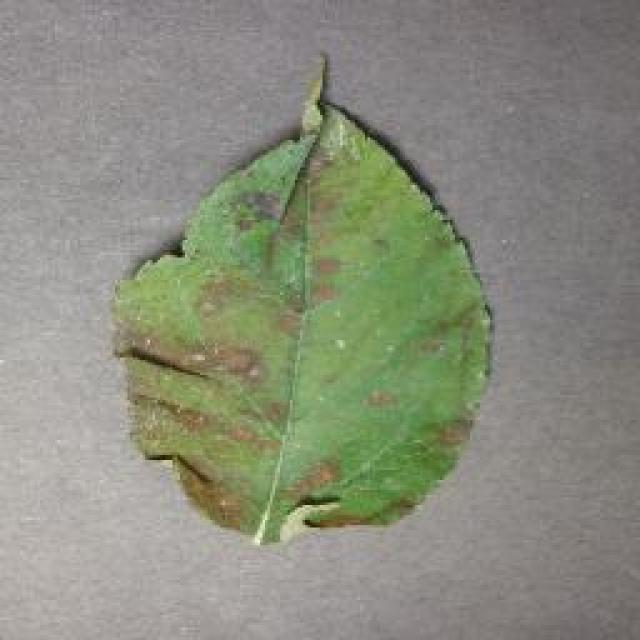apple cedar apple rust: (107, 50, 495, 548)
